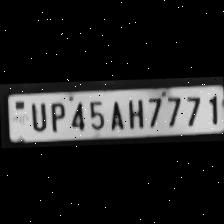1: (200, 92, 222, 125)
4: (66, 98, 86, 131)
5: (83, 96, 105, 130)
7: (160, 93, 182, 127), (179, 92, 201, 126), (142, 94, 162, 127)
A: (104, 96, 124, 130)
H: (124, 94, 144, 128)
P: (44, 98, 66, 132)
U: (26, 99, 48, 132)
